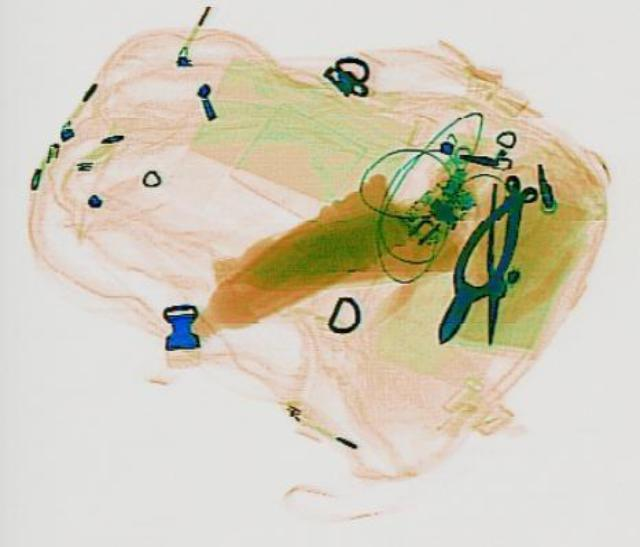Pliers: (414, 171, 548, 350)
